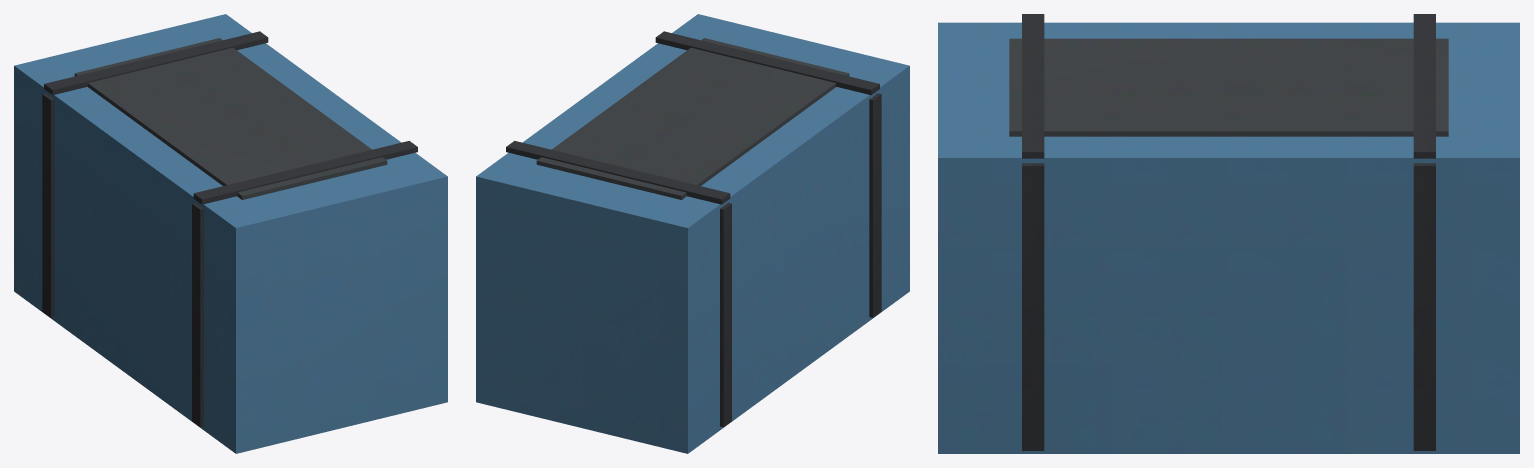
The model's file is absorber-block_far.glb.
3 views of the same model, side by side, from view 1: azimuth 30°, elevation 25°; view 2: azimuth 150°, elevation 25°; view 3: azimuth 270°, elevation 25° (orthographic). The views are drawn at different scales.
Visible parts, largest first — view 1: paint-band, dark-steel, rubber; view 2: paint-band, dark-steel, rubber; view 3: paint-band, dark-steel, rubber.
Part boxes in pixels (bbox=[...]): paint-band: bbox=[14, 14, 447, 453]; dark-steel: bbox=[74, 38, 387, 199]; rubber: bbox=[42, 31, 417, 427]; paint-band: bbox=[476, 14, 909, 453]; dark-steel: bbox=[536, 38, 849, 199]; rubber: bbox=[506, 31, 881, 427]; paint-band: bbox=[938, 22, 1519, 453]; dark-steel: bbox=[1009, 38, 1448, 136]; rubber: bbox=[1022, 14, 1435, 450].
Size of the model in its own units: 1.12 by 1.13 by 1.96.
Materials: 3 (3 with a texture image).
